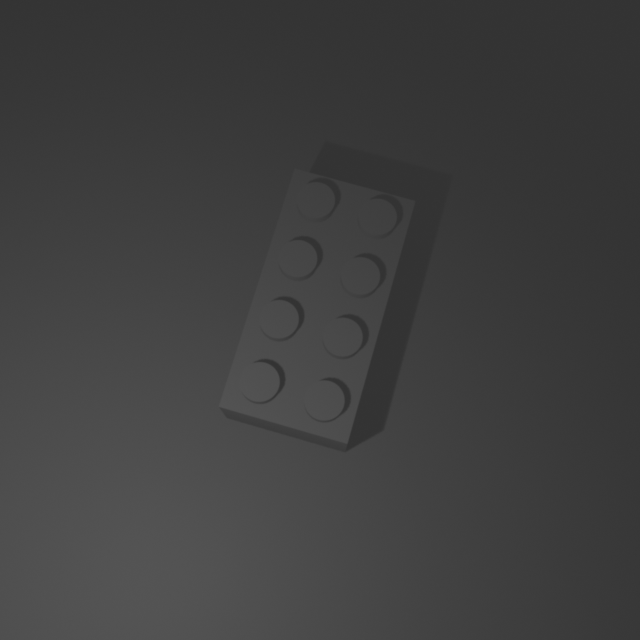lego_2x4: (217, 163, 417, 452)
